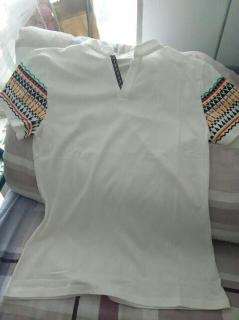short sleeve top: (0, 37, 239, 311)
